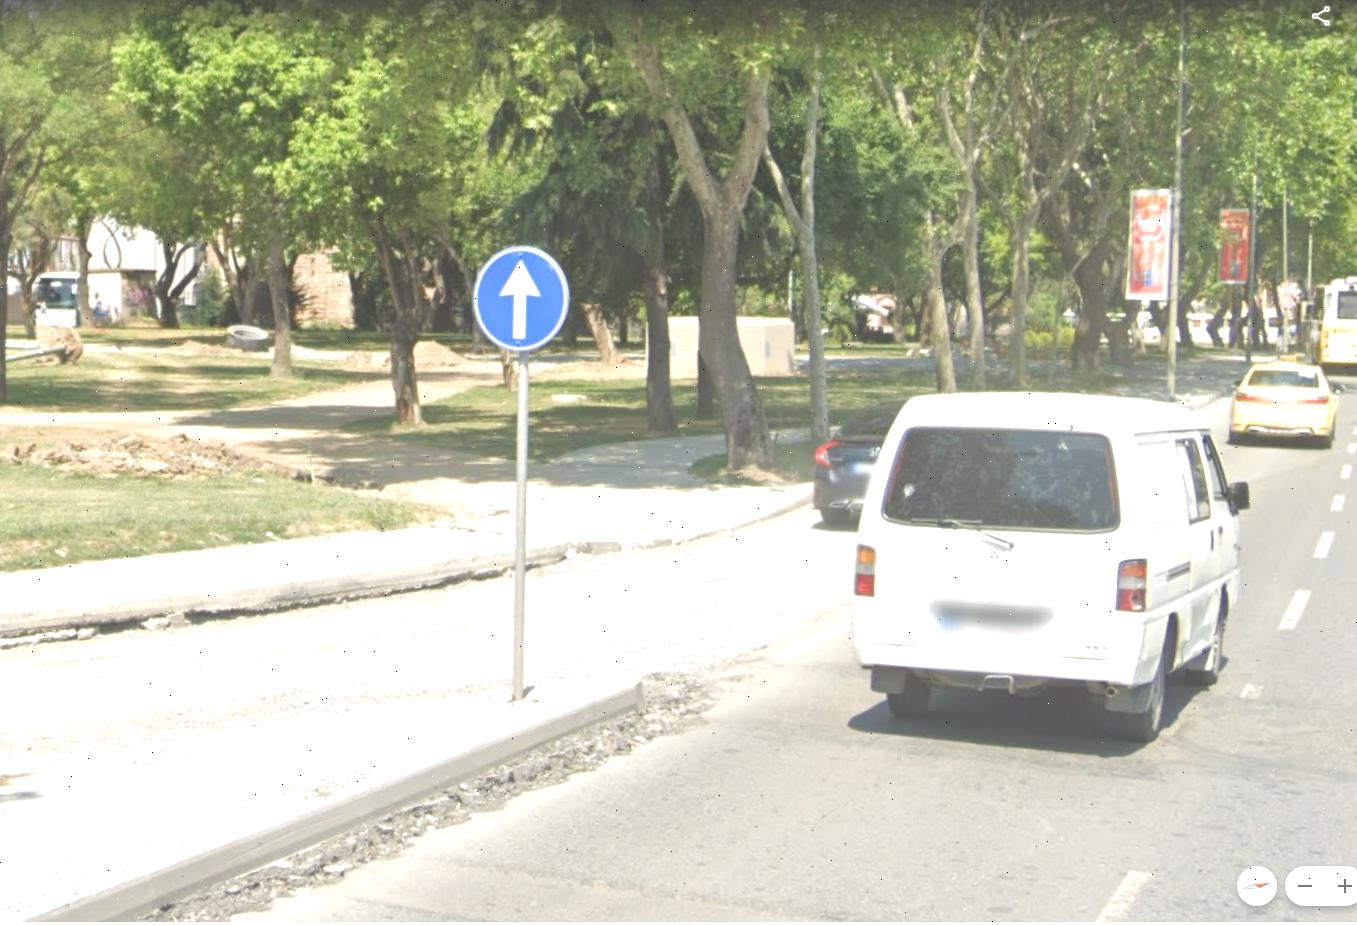forward: (472, 242, 570, 350)
